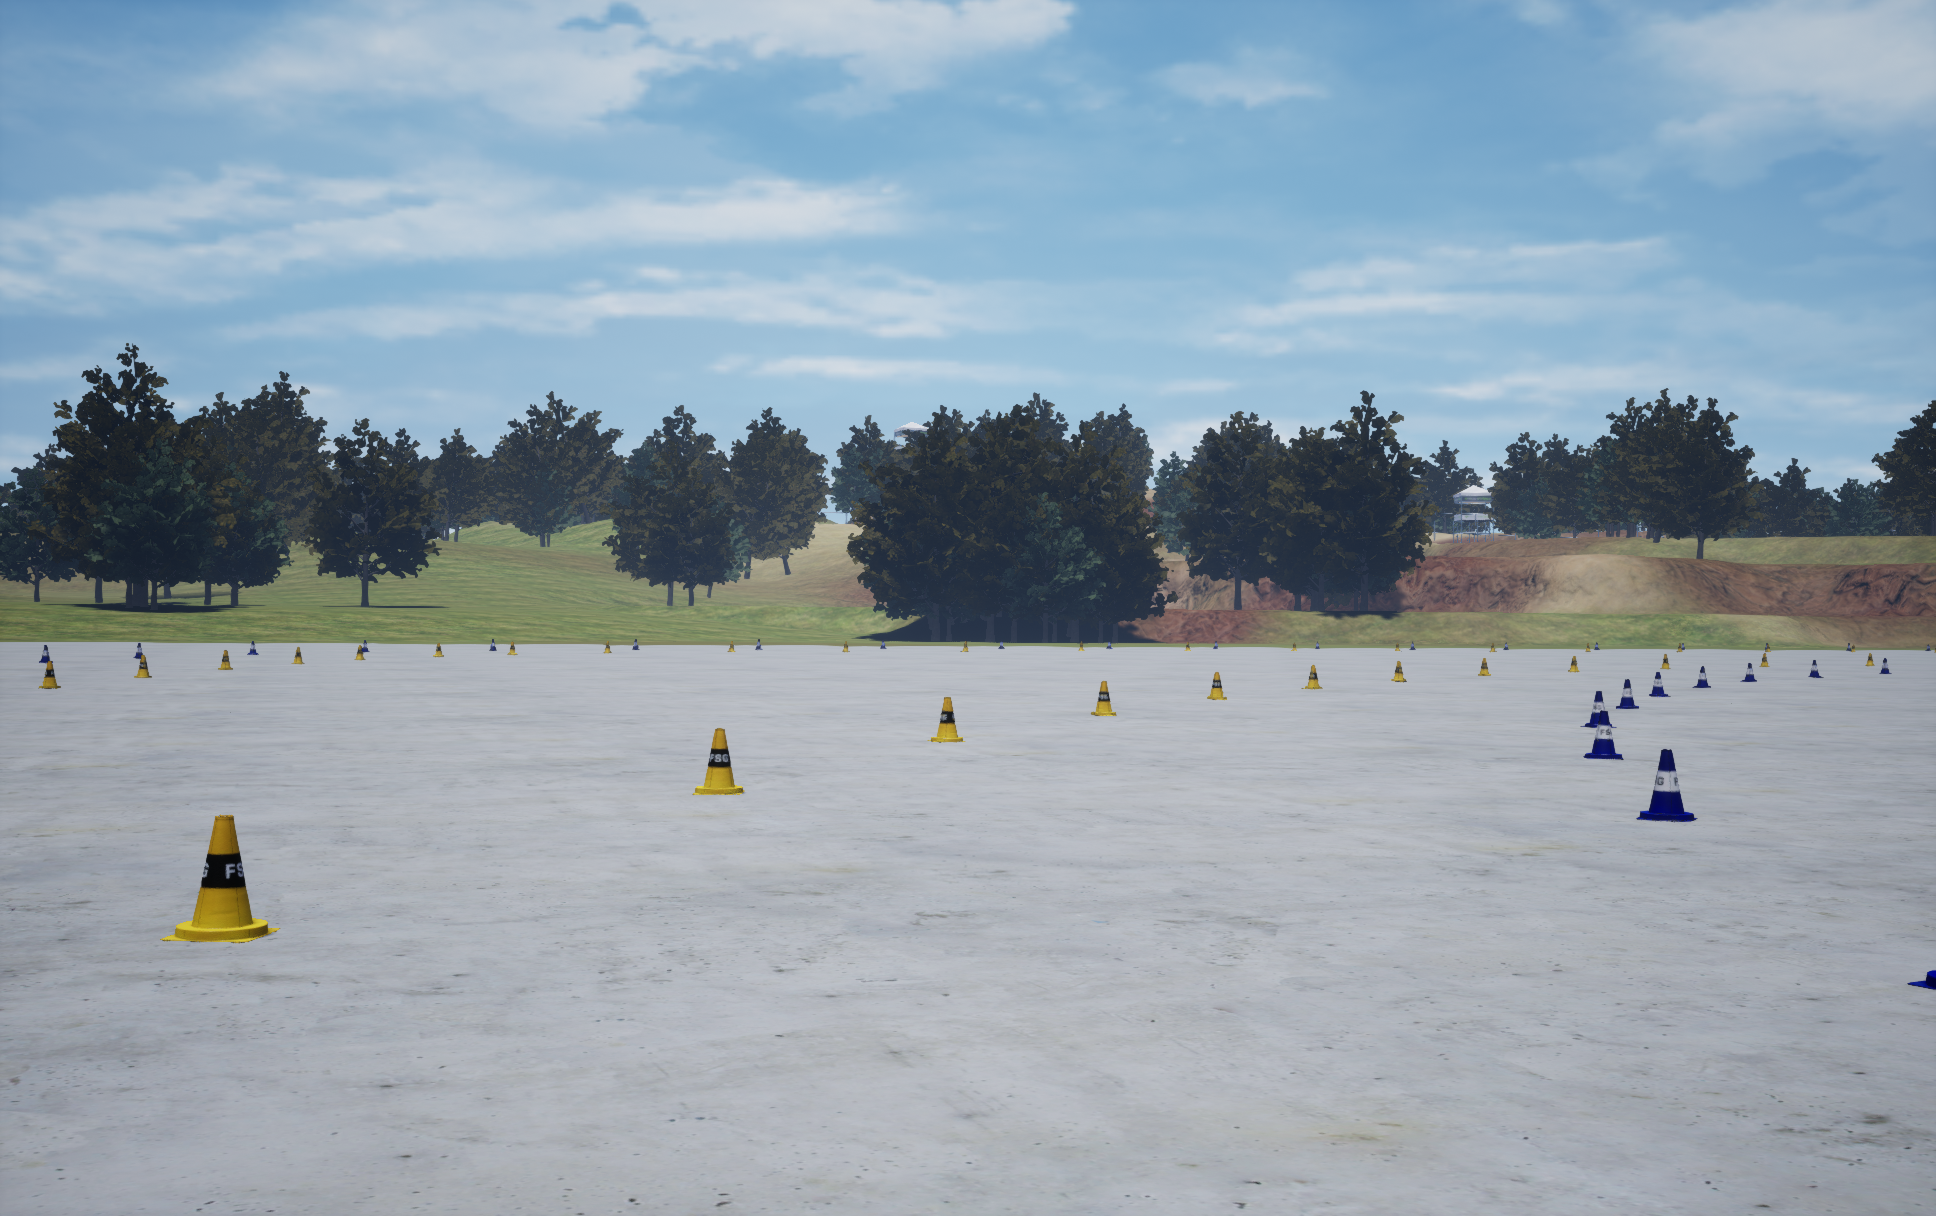blue: (160, 815, 280, 941), (692, 728, 744, 794), (927, 698, 965, 742), (1091, 681, 1116, 714), (38, 661, 60, 688), (1208, 672, 1226, 699), (1301, 665, 1322, 688), (134, 656, 151, 677), (1391, 661, 1406, 681), (219, 650, 233, 670)
yellow: (1636, 749, 1696, 821), (1583, 710, 1624, 759), (1580, 691, 1617, 727), (1617, 679, 1638, 707), (1907, 969, 1935, 989), (1649, 672, 1670, 696), (1692, 665, 1710, 686), (1740, 663, 1757, 681)
